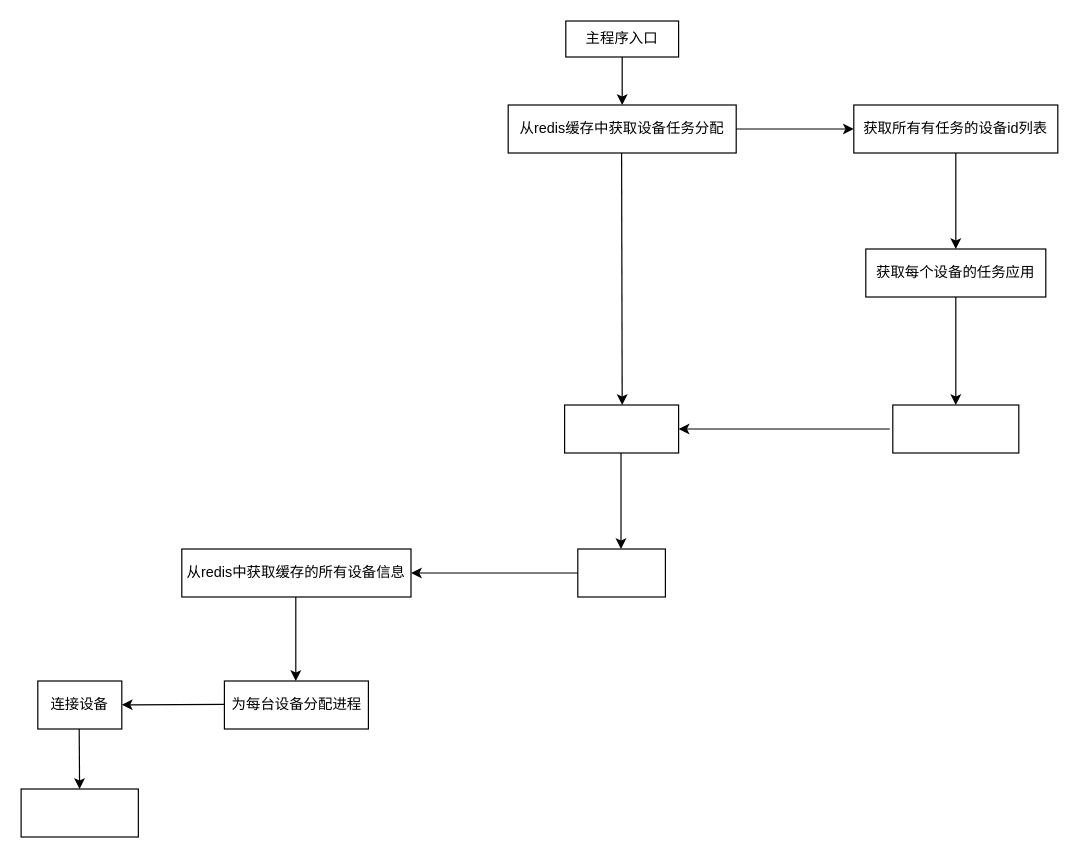
The diagram is 1079 pixels wide and 858 high, and some of its shapes have lost their labels. Each missing label, with the centre of its shape:
"加载脚本数据" goes at point 621,428.
"广播设备序列号" goes at point 79,812.
"执行任务" goes at point 621,572.
"提取应用包名" goes at point 955,428.
